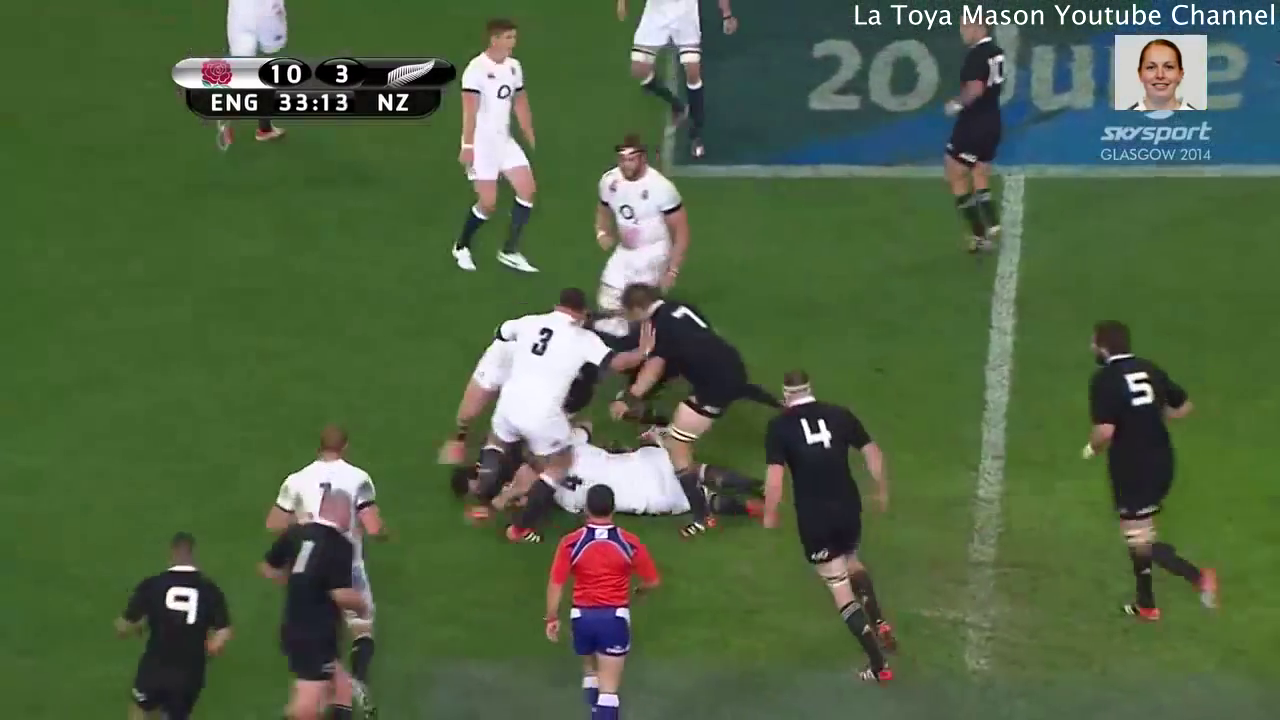player: (757, 368, 911, 692), (1075, 310, 1224, 627), (612, 284, 764, 539), (461, 285, 605, 545), (434, 12, 551, 278), (543, 484, 663, 720), (253, 487, 367, 720), (108, 524, 234, 720), (546, 428, 768, 531), (931, 8, 1022, 255), (611, 1, 744, 164), (580, 140, 697, 289), (259, 428, 377, 523)
ruck: (450, 284, 773, 540)
